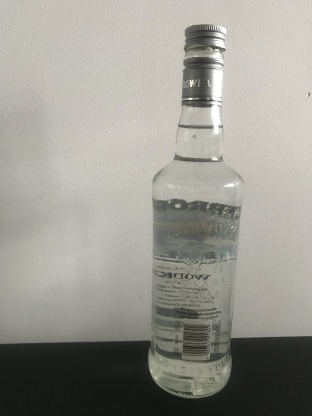nakretka: (180, 22, 227, 106)
